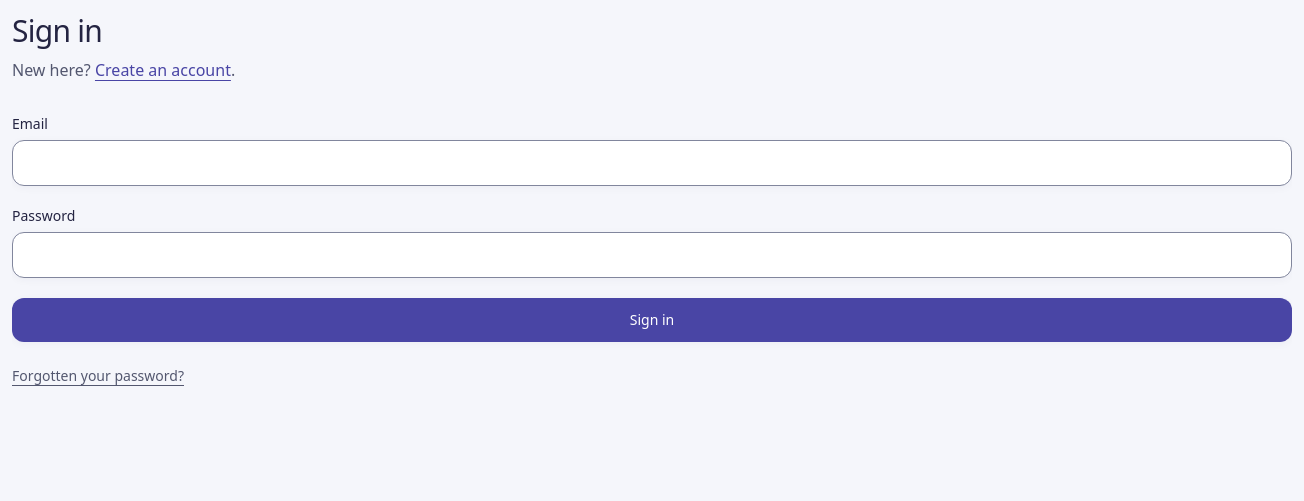
Test: what the page says when sign-in is refused › puts field errors on the field they belong to
In the field labelled "Email": (652, 162) [12,140,1292,186], type "not-an-address"
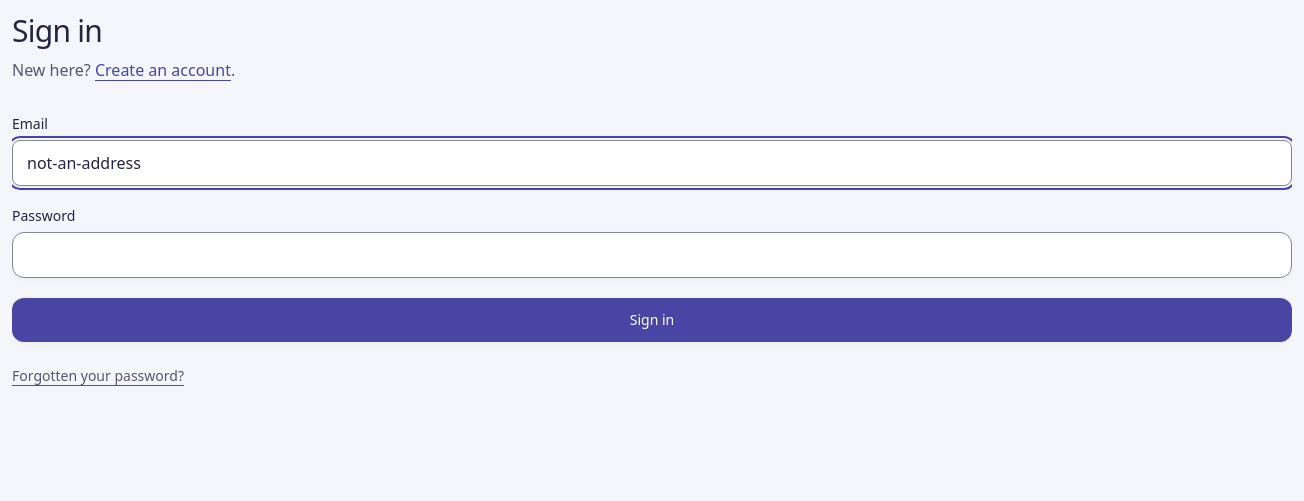
In the password field labelled "Password": (652, 254) [12,232,1292,278], type "correct horse"
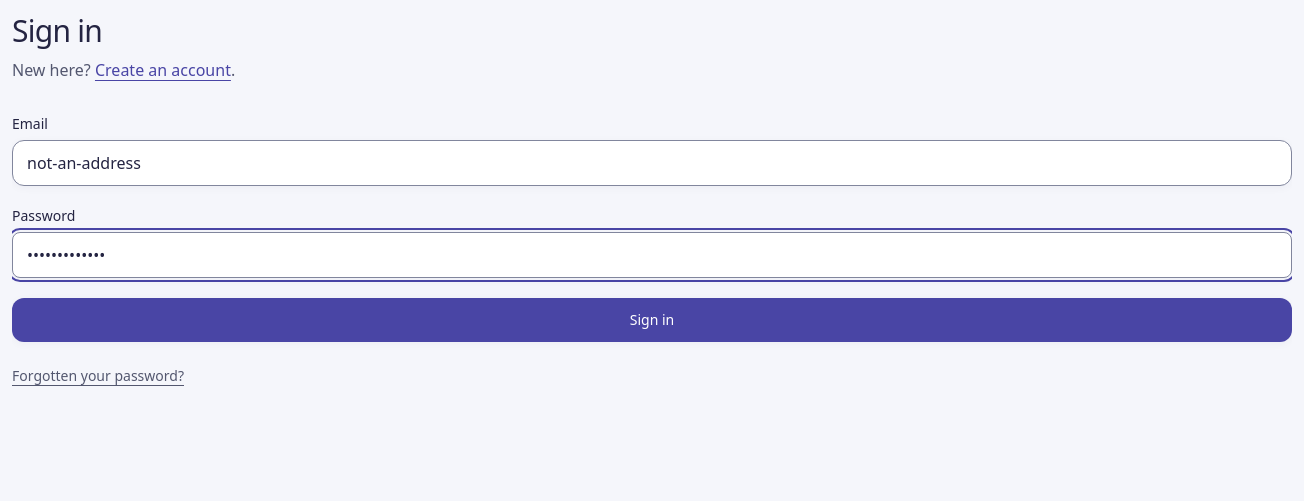
Click the button "Sign in": (652, 320) [12,298,1292,342]
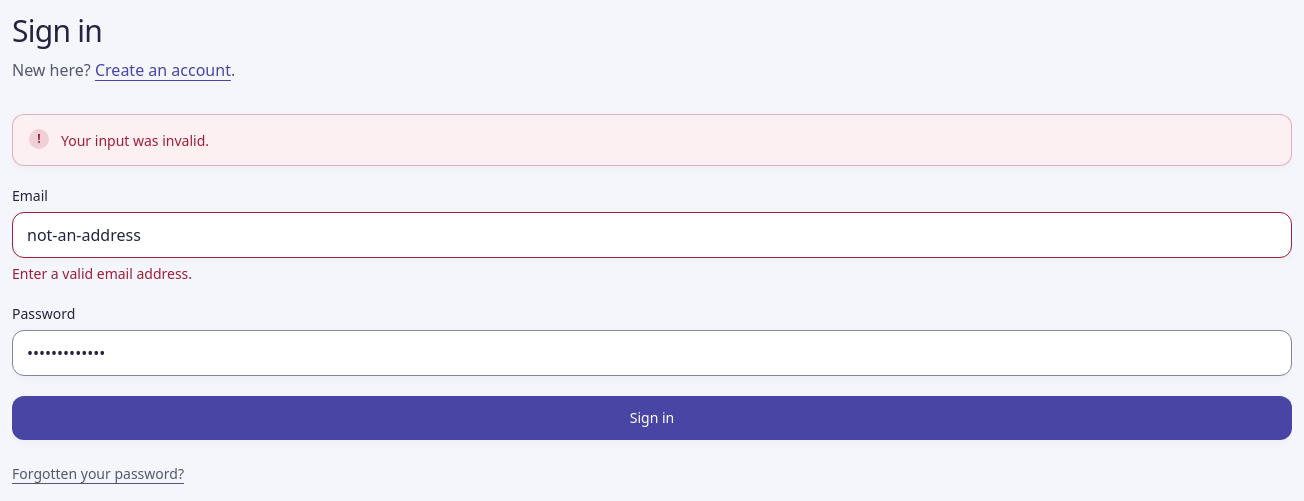
Result: the list item "Enter a valid email address." is shown at [12,264,192,282]
